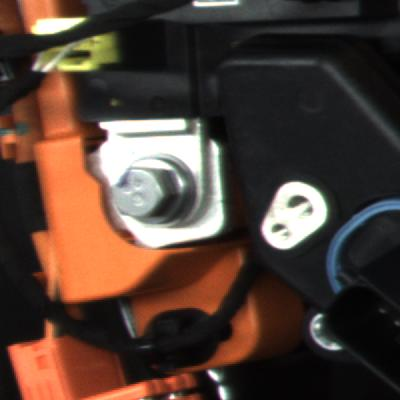nut_b: (101, 148, 209, 230)
